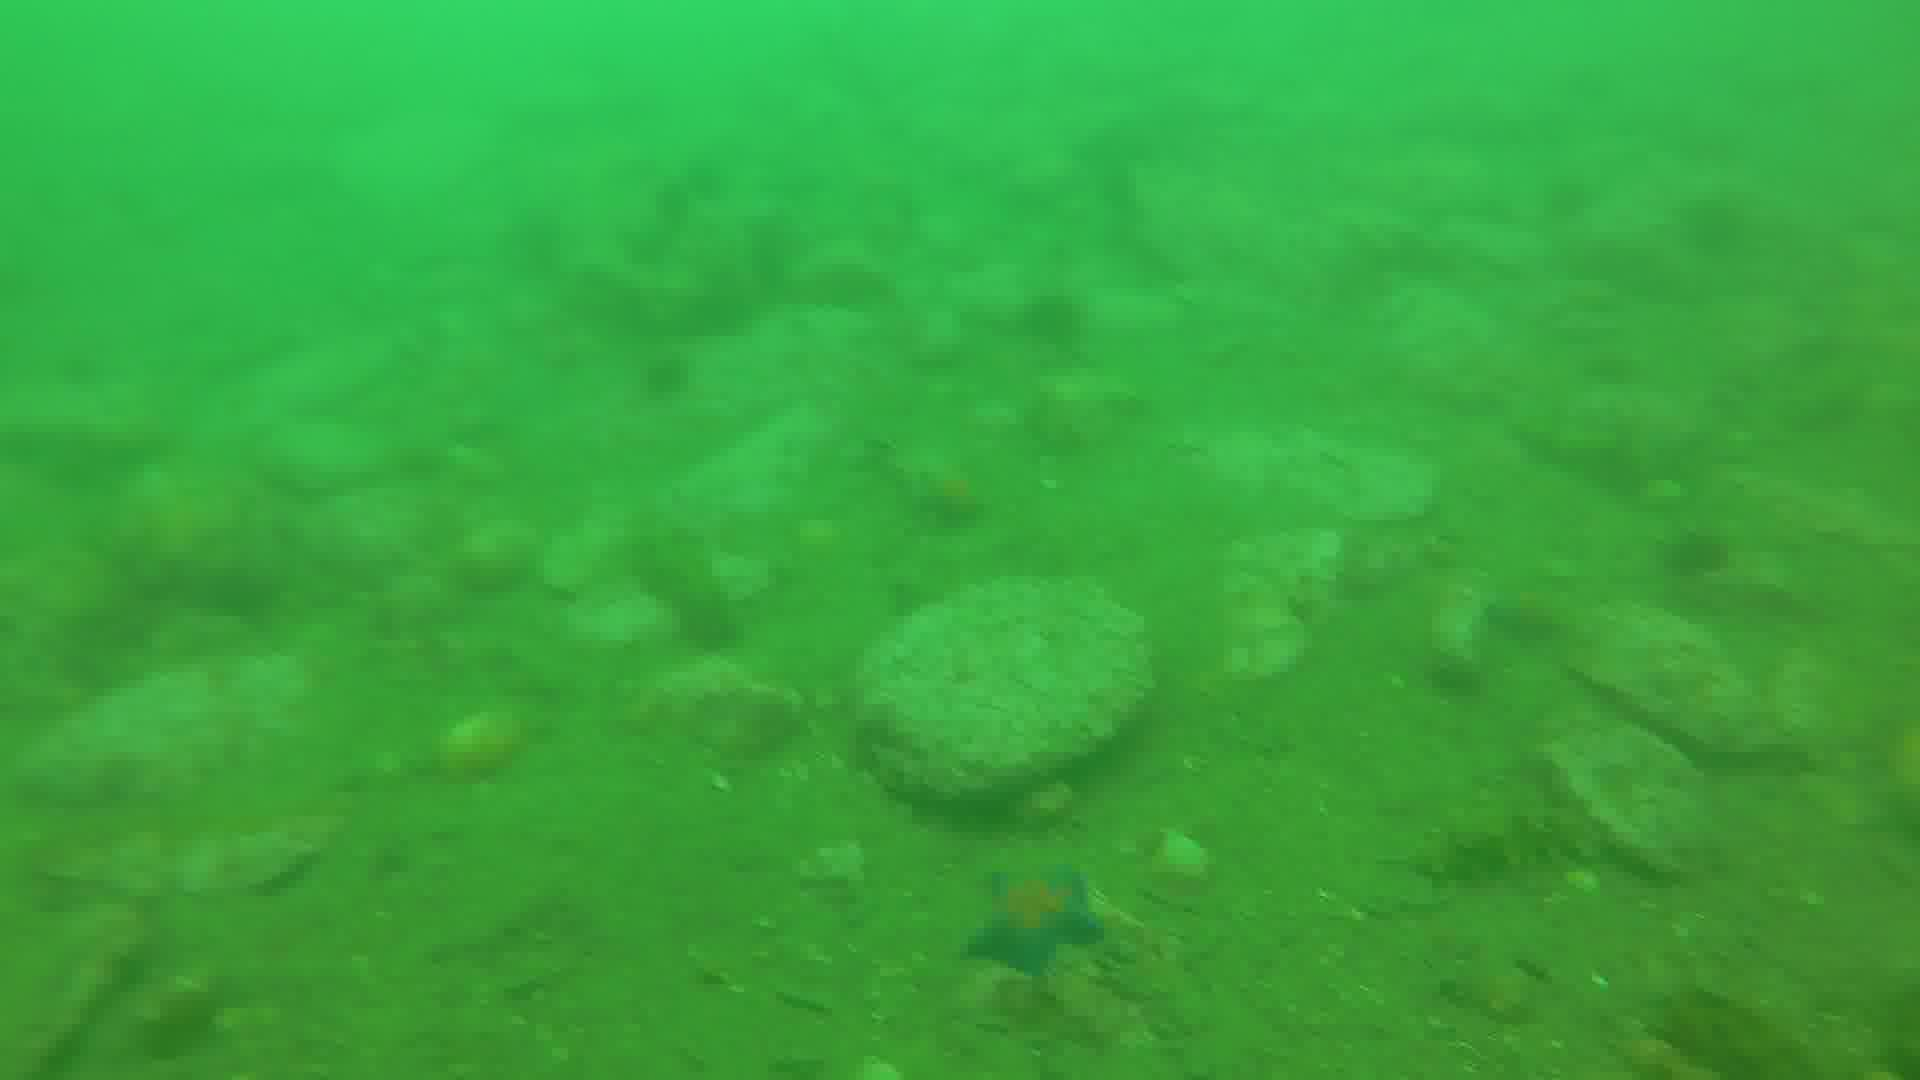echinus: (1660, 527, 1745, 589)
holothurian: (1410, 807, 1611, 887)
starfish: (975, 855, 1102, 978)
